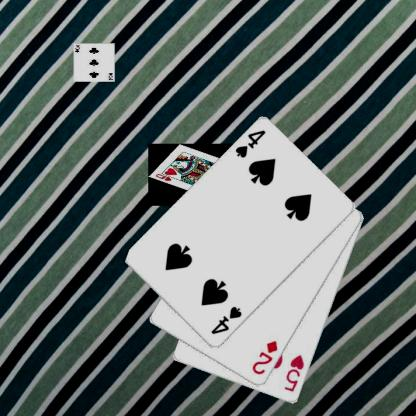2D: (249, 338, 278, 376)
4S: (209, 304, 243, 336), (233, 128, 267, 159)
5H: (282, 352, 306, 394)
